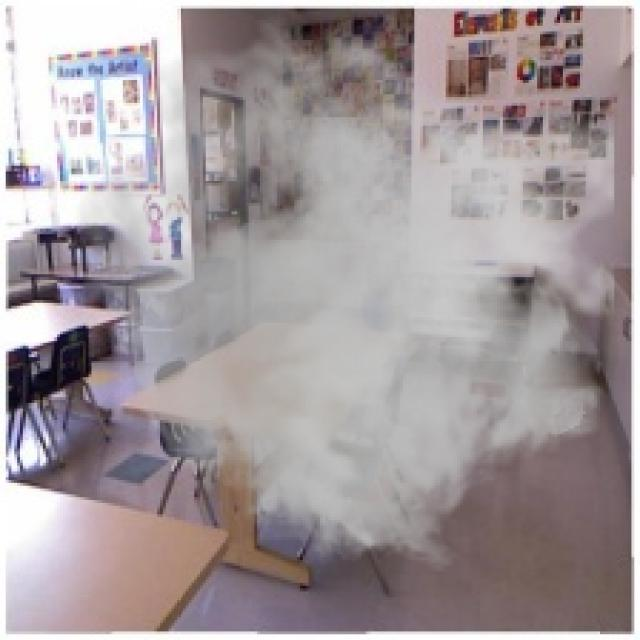smoke: (75, 12, 614, 574)
